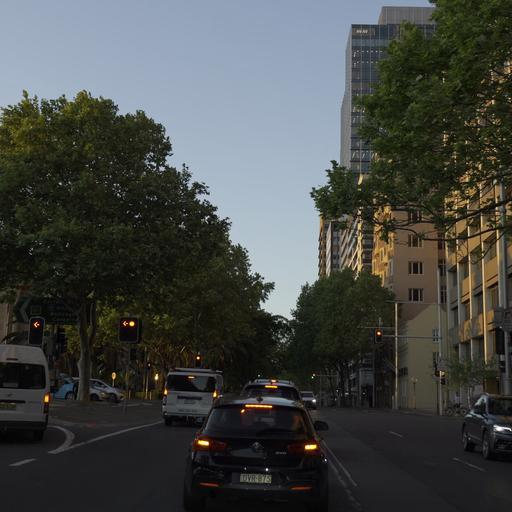Street light: (385, 298, 442, 415), (117, 315, 140, 343), (27, 315, 45, 345), (374, 328, 382, 343)
